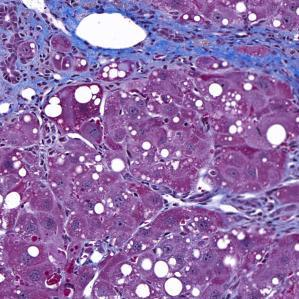fibrosis: (149, 17, 293, 77), (18, 7, 76, 76)
